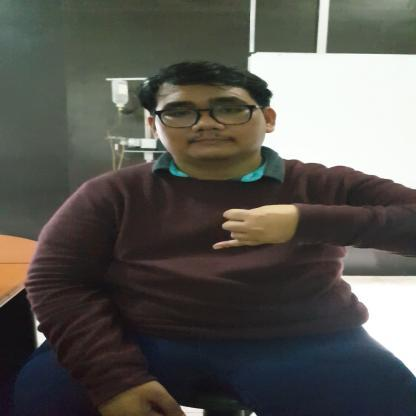J: (211, 203, 305, 250)
